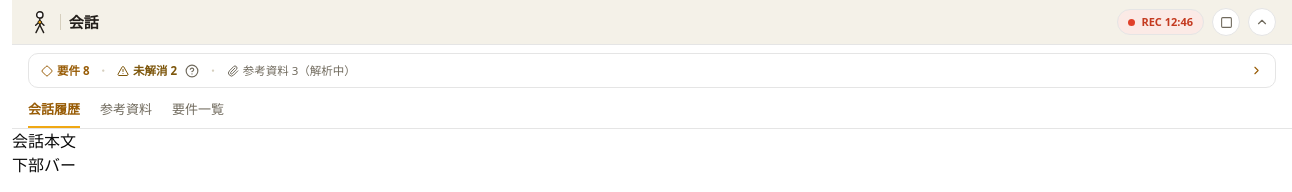
Test: ConversationShell（共通シェル） › タブを切り替えると本文だけ変わり、常時UI（下部バー）は出たまま
Click the tab "参考資料": (126, 111) [100,94,152,128]
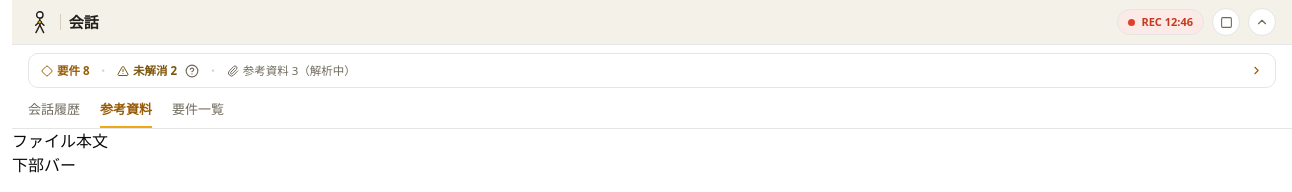
Expected: the text "下部バー" is shown, [12,154,76,176]
Expected: the text "ファイル本文" is shown, [12,130,108,152]
Expected: the text "会話本文" is gone
